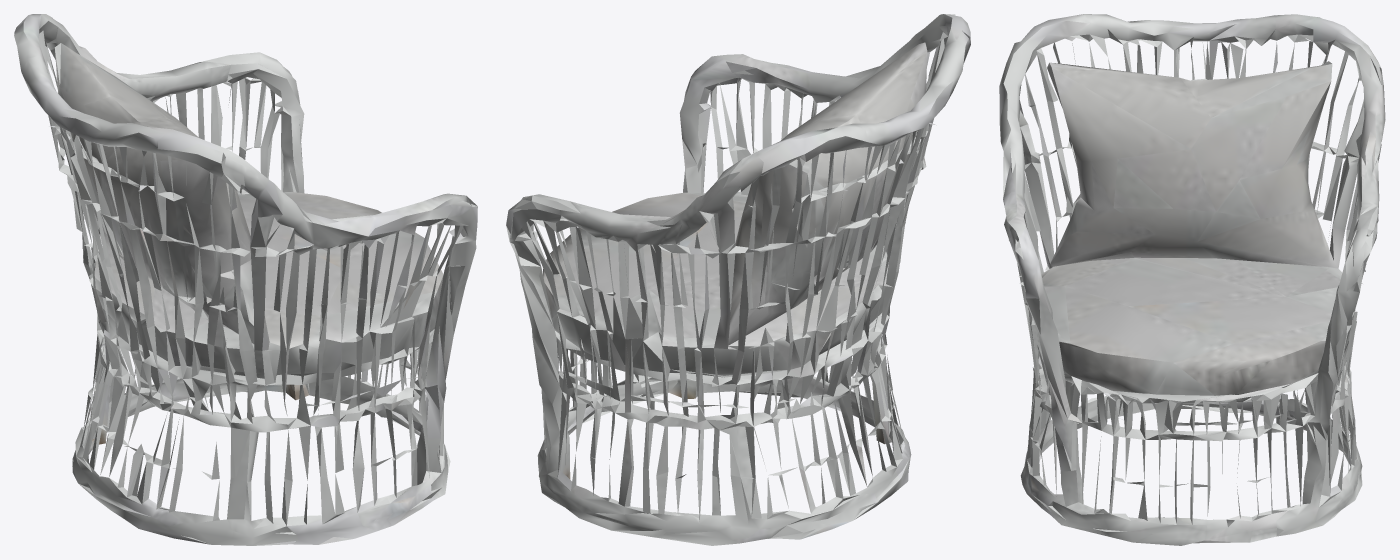
The model's file is mj-wicker-armchair.lod1.glb.
3 views of the same model, side by side, from view 1: azimuth 30°, elevation 25°; view 2: azimuth 150°, elevation 25°; view 3: azimuth 270°, elevation 25° (orthographic). The views are drawn at different scales.
Visible parts, largest first — view 1: mj-wicker-armchair; view 2: mj-wicker-armchair; view 3: mj-wicker-armchair.
Part boxes in pixels (x1,y1,x2,y2): mj-wicker-armchair: [14, 14, 477, 545]; mj-wicker-armchair: [506, 14, 970, 545]; mj-wicker-armchair: [999, 14, 1385, 545].
Bounding box in the file's own units: 0.8105 × 0.9164 × 0.8291.
1 material, 1 textured.
